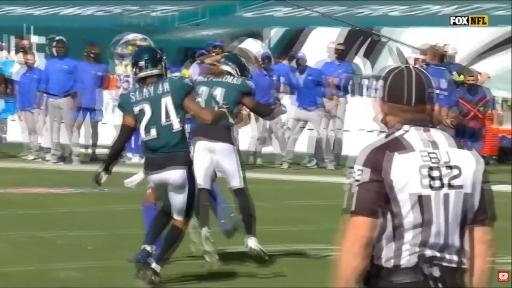Helmet: (132, 47, 166, 78), (220, 54, 250, 77)
Jersey: (119, 77, 193, 161), (194, 76, 254, 143), (116, 58, 137, 93)
Player: (95, 47, 226, 284), (192, 54, 282, 259)
